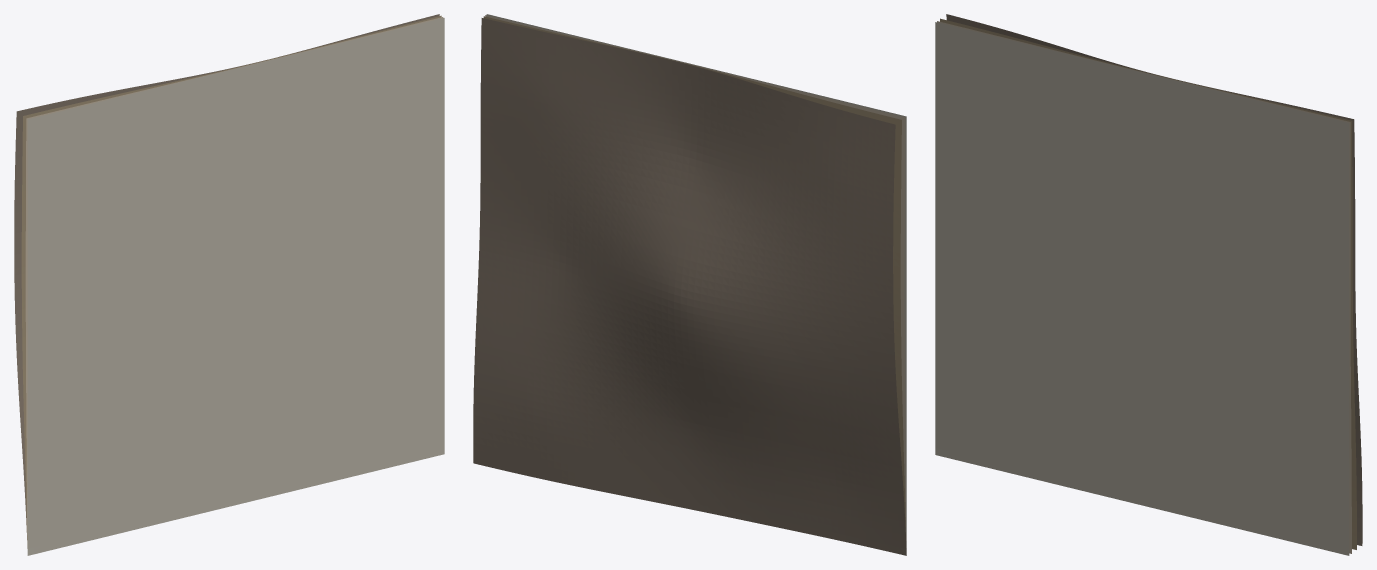
Rendered from sample.glb.
The picture shows the model from 3 angles, left to right: view 1: azimuth 30°, elevation 25°; view 2: azimuth 150°, elevation 25°; view 3: azimuth 330°, elevation 25°; orthographic projection.
Parts seen in each view (by area): view 1: S_R_FILL, S_R_SCHIST, S_R_TILL, S_R_OUTWASH; view 2: S_R_SCHIST, S_R_TILL, S_R_OUTWASH, S_R_FILL; view 3: S_R_FILL, S_R_SCHIST, S_R_TILL, S_R_OUTWASH.
Boxes of the visible parts, left/top/right/bottom form: S_R_FILL: left=27, top=18, right=444, bottom=555; S_R_SCHIST: left=14, top=14, right=439, bottom=532; S_R_TILL: left=21, top=15, right=441, bottom=539; S_R_OUTWASH: left=25, top=17, right=443, bottom=547; S_R_SCHIST: left=473, top=18, right=906, bottom=555; S_R_TILL: left=483, top=16, right=905, bottom=533; S_R_OUTWASH: left=485, top=15, right=906, bottom=540; S_R_FILL: left=486, top=14, right=906, bottom=547; S_R_FILL: left=935, top=22, right=1349, bottom=555; S_R_SCHIST: left=946, top=14, right=1362, bottom=545; S_R_TILL: left=940, top=18, right=1356, bottom=549; S_R_OUTWASH: left=937, top=21, right=1351, bottom=553.
Bounding box in the file's own units: 1000 × 1000 × 81.3.
